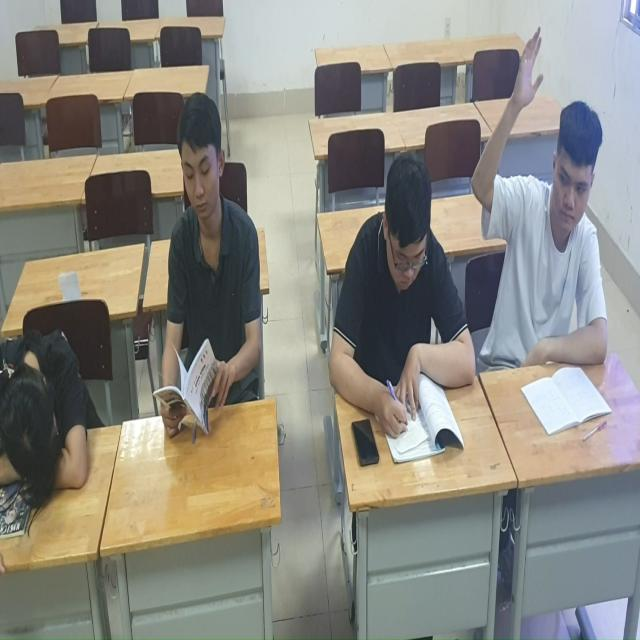raise_hand: (472, 25, 611, 370)
read: (331, 151, 478, 455), (152, 89, 266, 457)
sleep: (1, 323, 97, 511)
